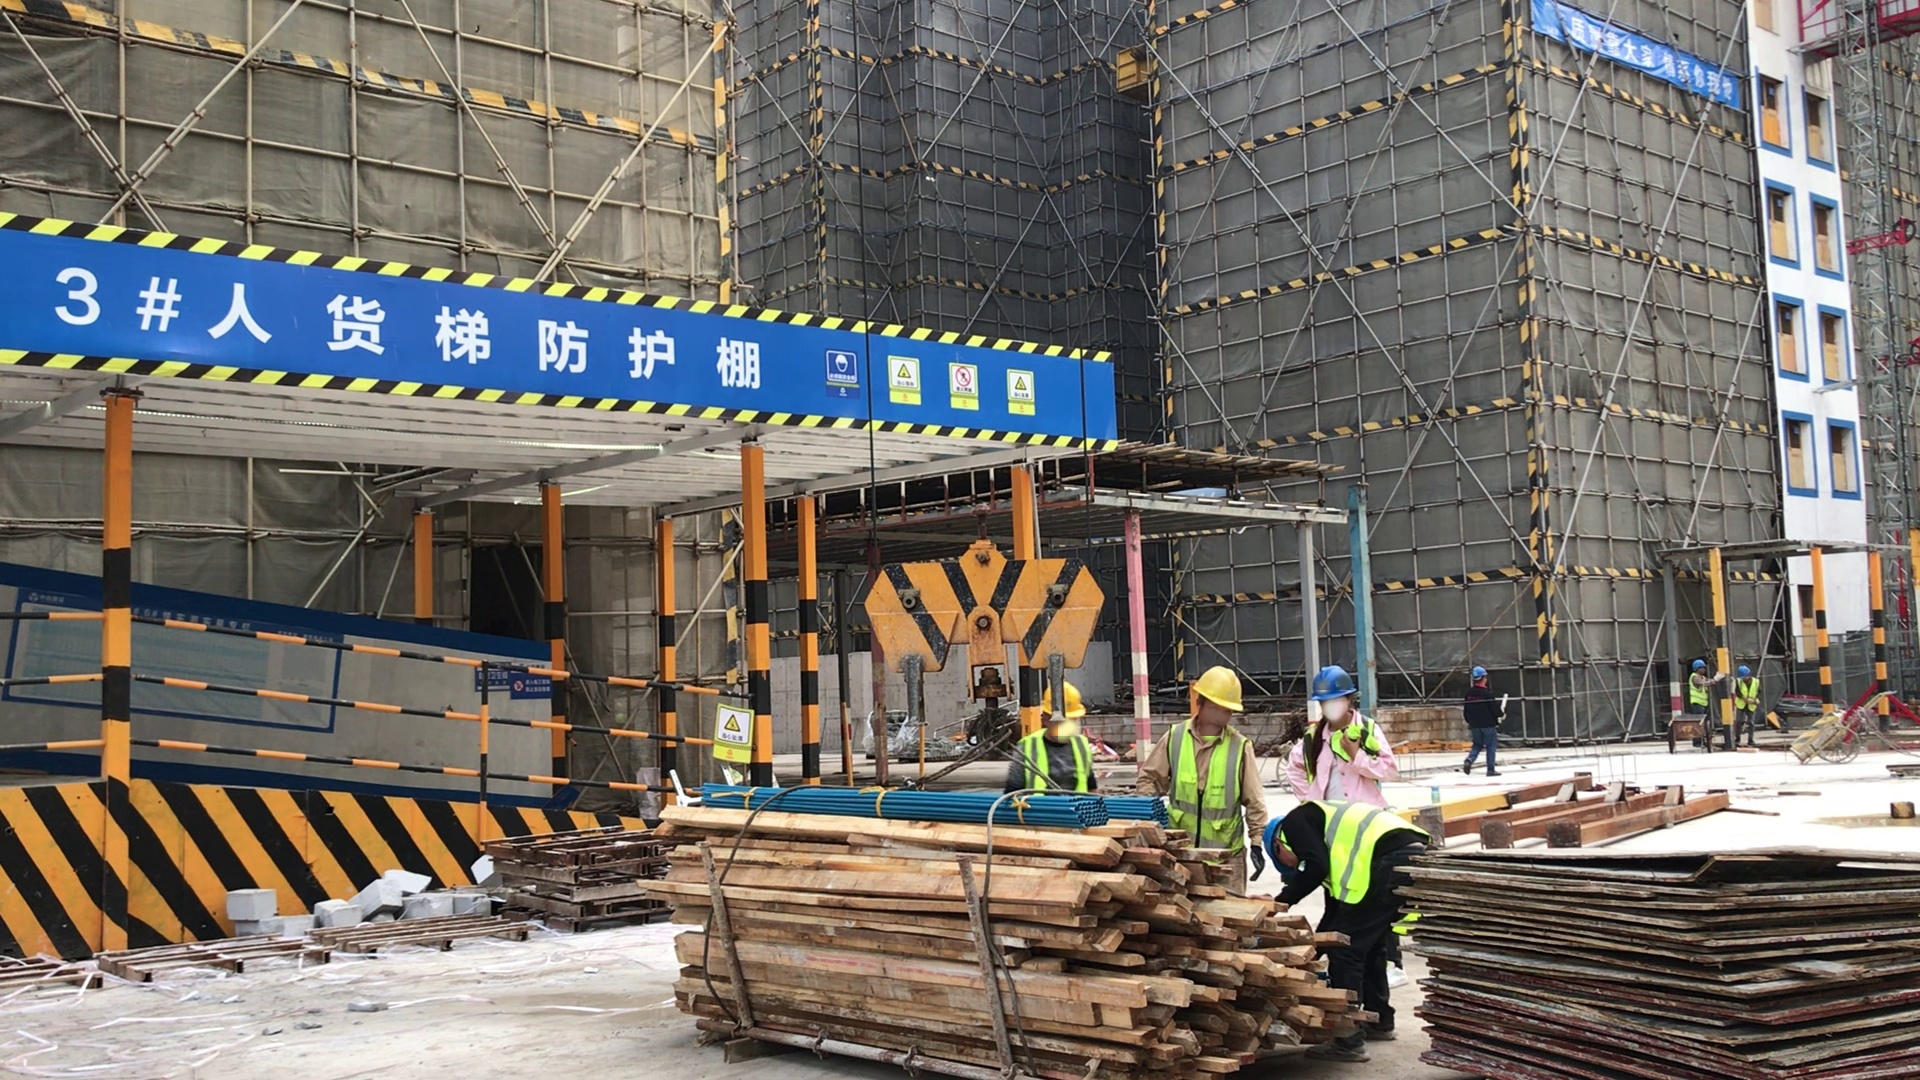board: (1429, 843, 1920, 1078)
handcart: (1793, 695, 1893, 761)
helmet: (1191, 664, 1244, 711), (1309, 666, 1357, 702), (1044, 681, 1085, 719), (1266, 812, 1285, 877), (1470, 666, 1487, 679), (1737, 665, 1749, 676), (1692, 659, 1704, 669)
hook: (852, 526, 1118, 682)
person: (1254, 797, 1430, 1024), (1130, 658, 1268, 876), (1281, 668, 1411, 820), (1004, 682, 1104, 804), (1454, 663, 1514, 779), (1727, 666, 1764, 750), (1684, 663, 1717, 750)
slogan: (1524, 1, 1753, 115)
vest: (1300, 797, 1421, 893), (1166, 723, 1251, 850), (1017, 729, 1097, 794), (1735, 678, 1759, 710), (1690, 671, 1708, 706)
wood: (654, 804, 1381, 1080)
